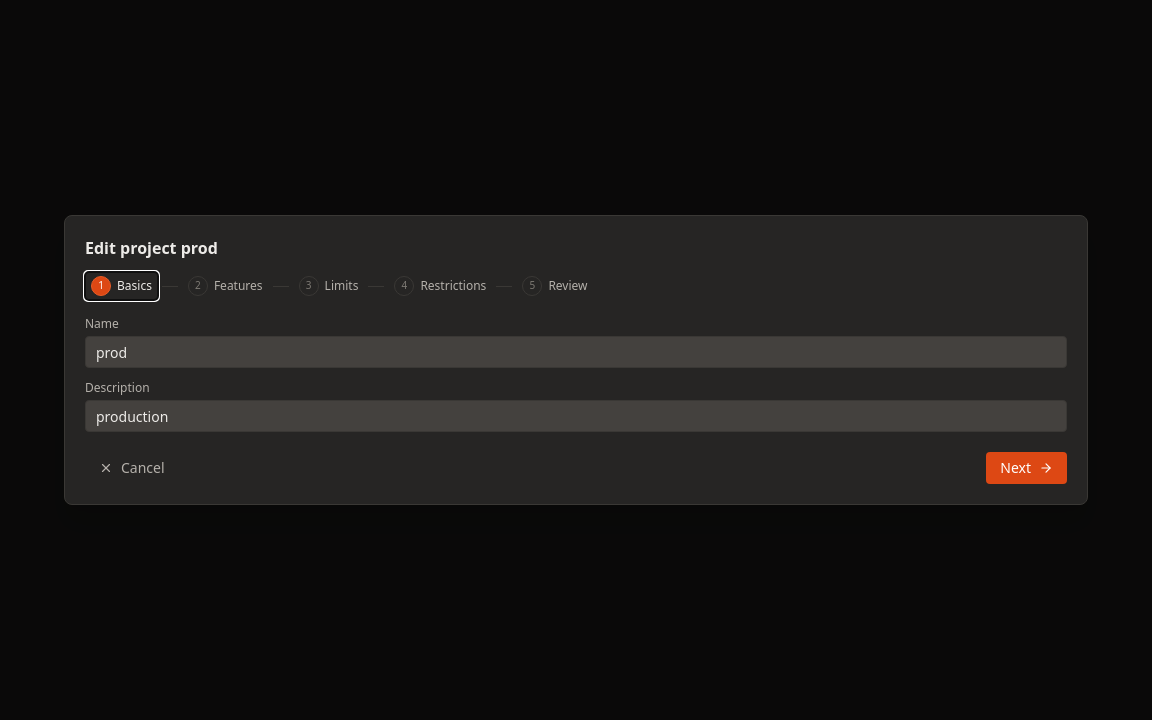
Test: ProjectEditor (edit) › renders limits with usage bars for the active project and clamps percentages to 100
What coordinates should you click on to do the following:
click the button "3 Limits"
I would click on:
 (328, 286)
Its box is [293,272,364,300].
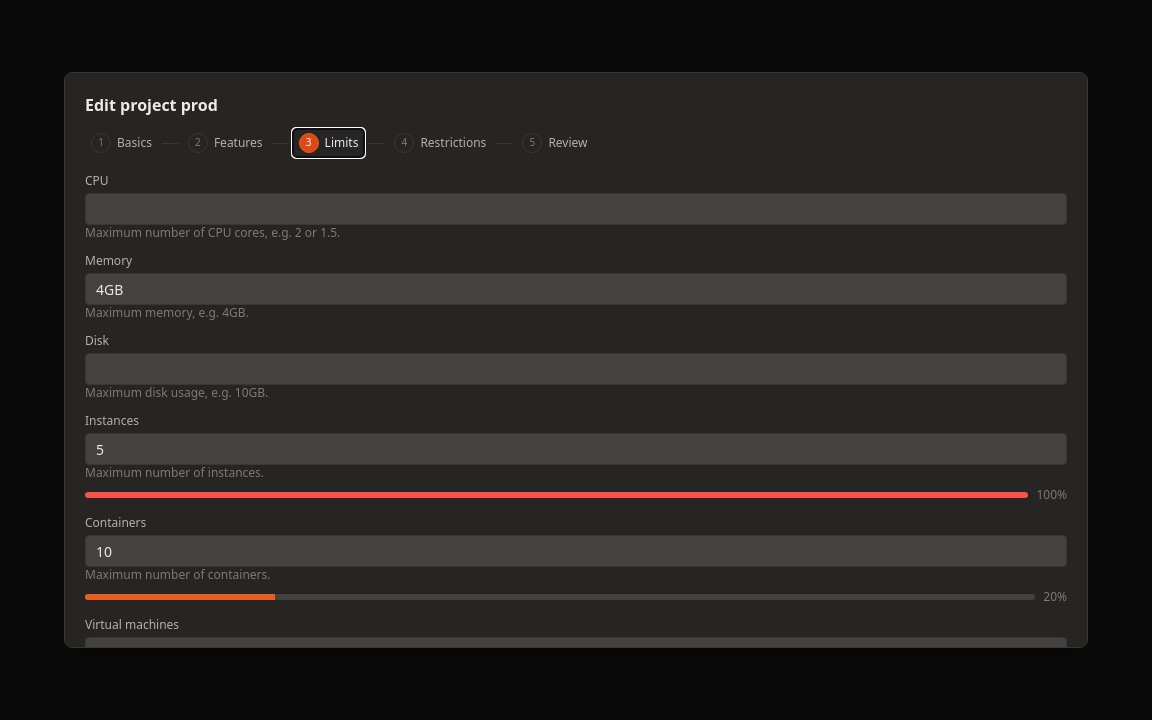
Now the number field with test id "project-limit-instances" holds "5", box [85,433,1067,465]
Now the field with test id "project-limit-memory" holds "4GB", box [85,273,1067,305]
Now the field with test id "project-limit-cpu" is empty, box [85,193,1067,225]
